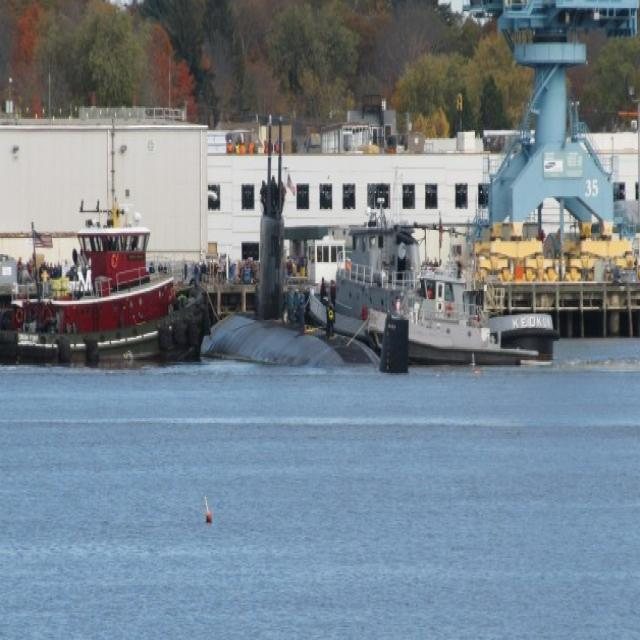submarine: (208, 120, 411, 374)
